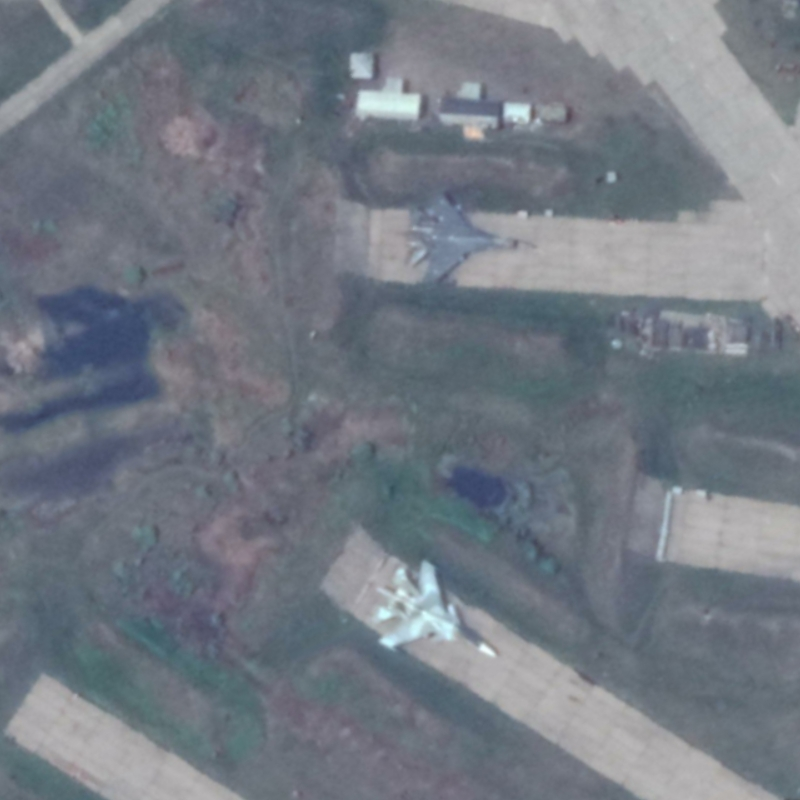A1: (401, 184, 542, 288)
A19: (374, 557, 504, 662)
